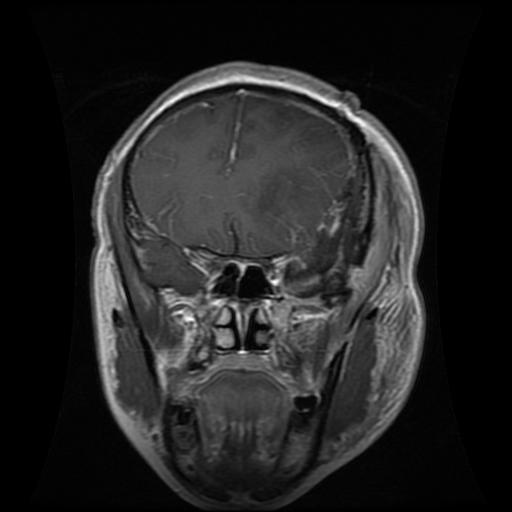Gliomia_tumour: (283, 146, 369, 295)
